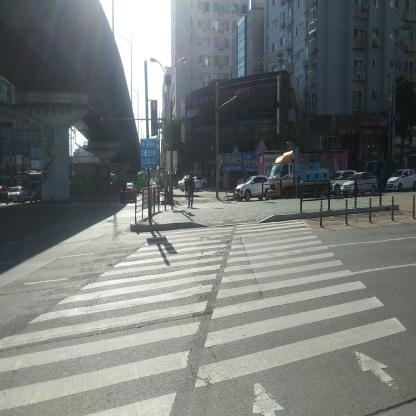Red: (150, 99, 158, 136), (211, 145, 214, 162)
